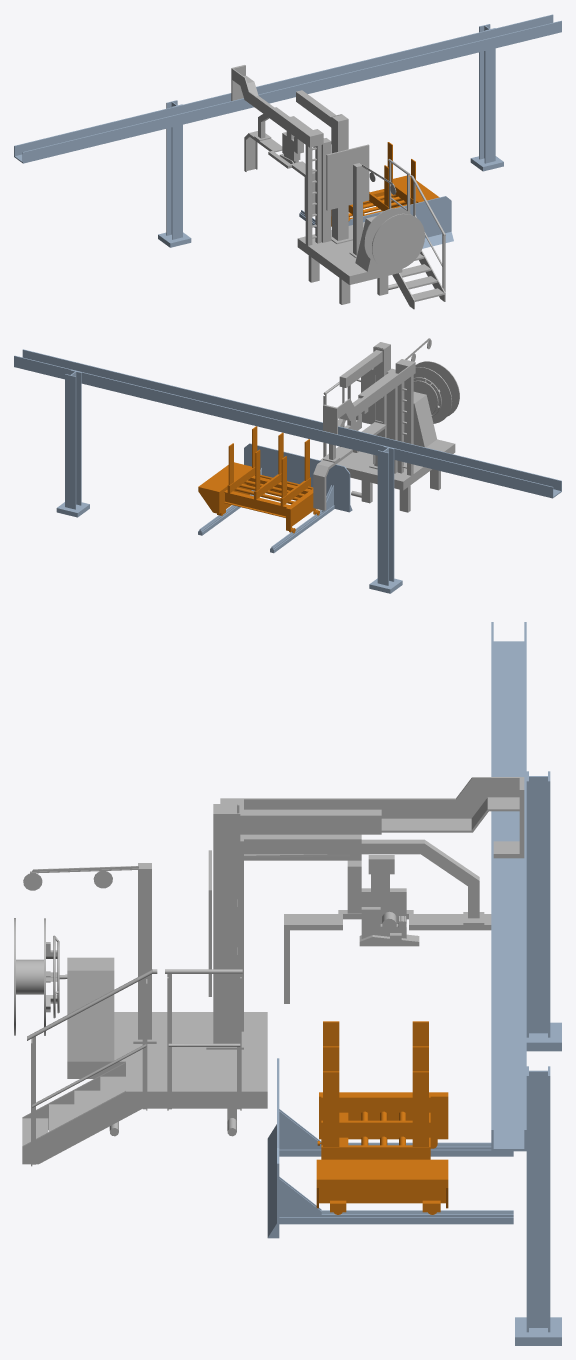
Rendered from Strapping.obj.
3 renders of one model, top to bottom at view 1: azimuth 30°, elevation 25°; view 2: azimuth 150°, elevation 25°; view 3: azimuth 270°, elevation 25°, orthographic. The views are drawn at different scales.
Parts seen in each view (by area): view 1: StrappingN; view 2: StrappingN; view 3: StrappingN.
Part boxes in pixels (x1=…): StrappingN: x1=14, y1=14, x2=561, y2=309; StrappingN: x1=14, y1=338, x2=561, y2=593; StrappingN: x1=14, y1=622, x2=561, y2=1345.
Size of the model in its own units: 510 by 147 by 233.
